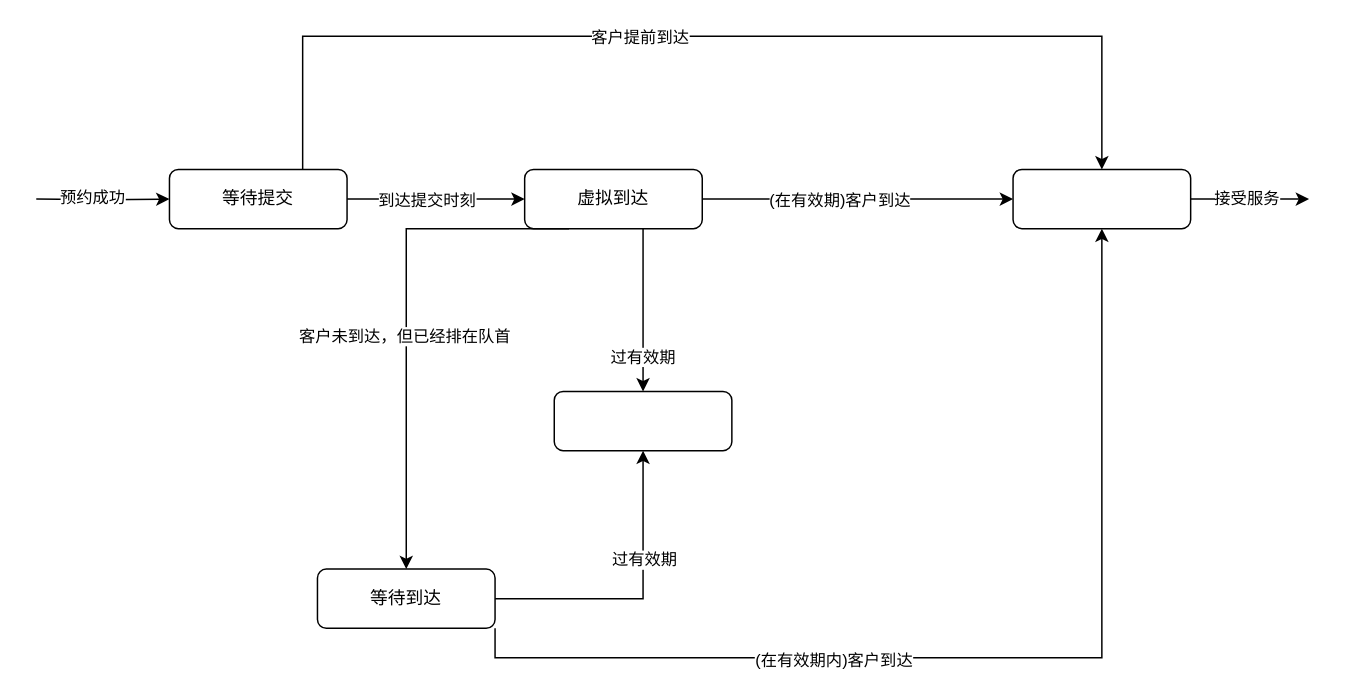
Image size: 1347x696. Some labels were removed from this diagram. The box of each missing label's shape, as (x1, y1, x2, y2) in pixels:
到达: (1012, 168, 1191, 229)
过期取消: (553, 390, 732, 451)
